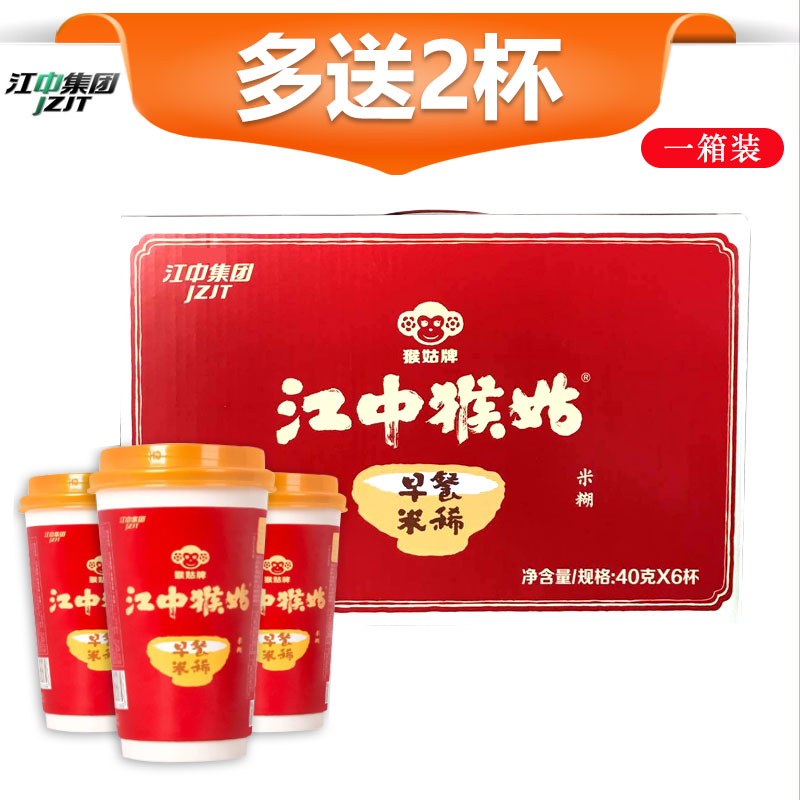box: (129, 232, 742, 614)
cup: (95, 445, 273, 761), (253, 471, 347, 731), (24, 472, 109, 733)
